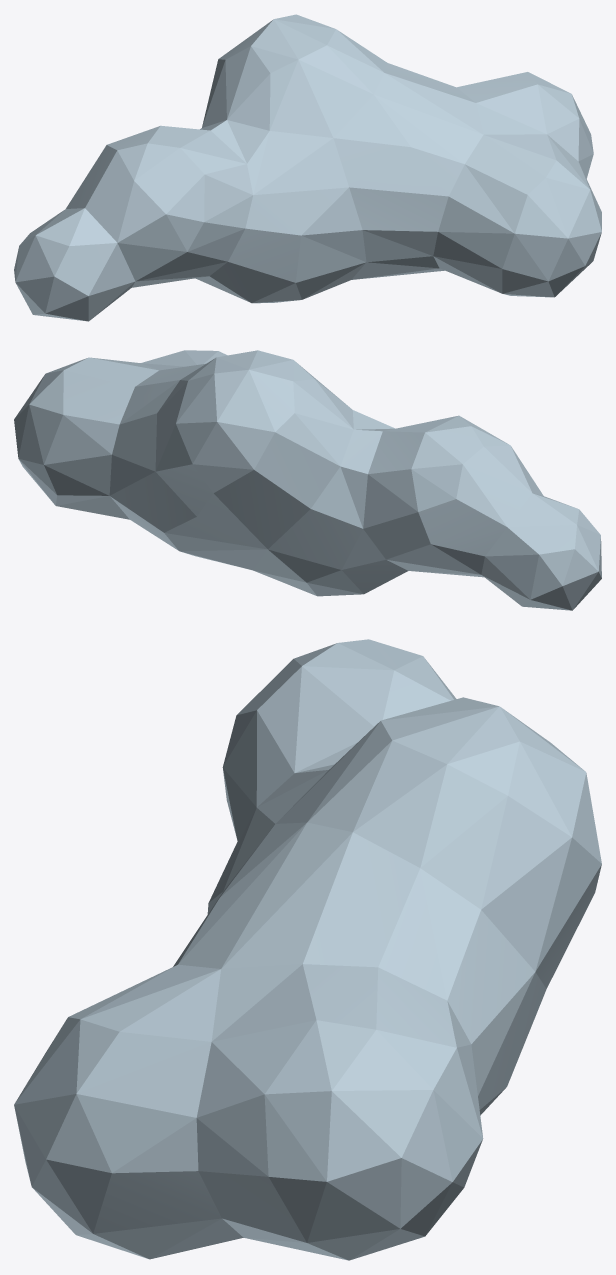
Rendered from medium_cloud_2.fbx.
The picture shows the model from 3 angles, top to bottom: view 1: azimuth 30°, elevation 25°; view 2: azimuth 150°, elevation 25°; view 3: azimuth 270°, elevation 25°; orthographic projection. The views are drawn at different scales.
Parts seen in each view (by area): view 1: cloud_52; view 2: cloud_52; view 3: cloud_52.
Part boxes in pixels (left/top/right/bottom): cloud_52: left=14, top=14, right=601, bottom=321; cloud_52: left=14, top=350, right=601, bottom=610; cloud_52: left=14, top=639, right=601, bottom=1260.
Size of the model in its own units: 647 by 258 by 334.
